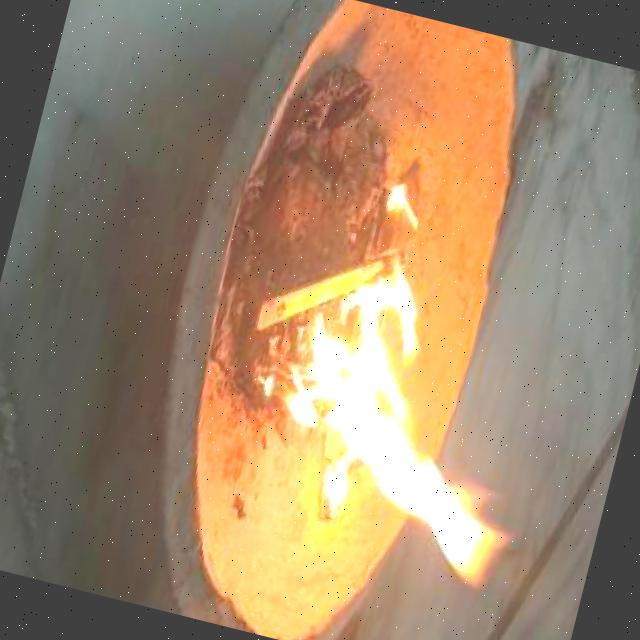fire: (249, 244, 576, 592)
